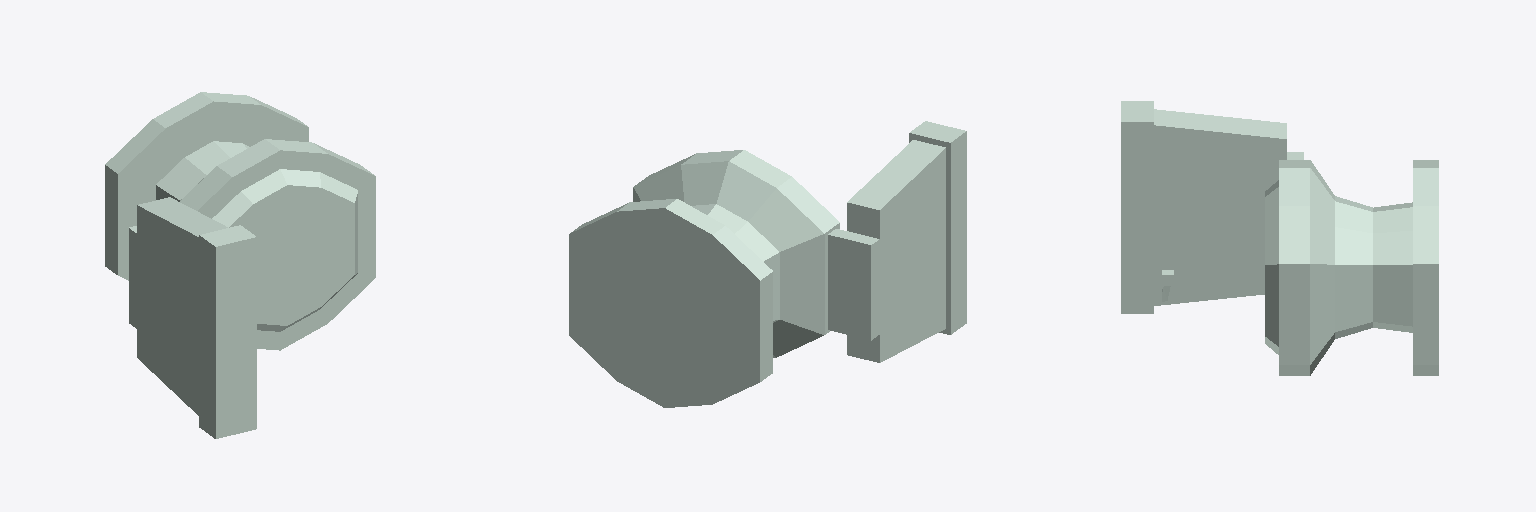
Rendered from toilet.obj.
The picture shows the model from 3 angles: view 1: azimuth 30°, elevation 25°; view 2: azimuth 150°, elevation 25°; view 3: azimuth 270°, elevation 25°; orthographic projection.
Visible parts, largest first — view 1: Cube; view 2: Cube; view 3: Cube.
Part boxes in pixels (x1,y1,x2,y2): Cube: (105, 92, 375, 438); Cube: (569, 121, 966, 407); Cube: (1121, 101, 1438, 375).
Bounding box in the file's own units: 0.4139 × 0.331 × 0.4749.